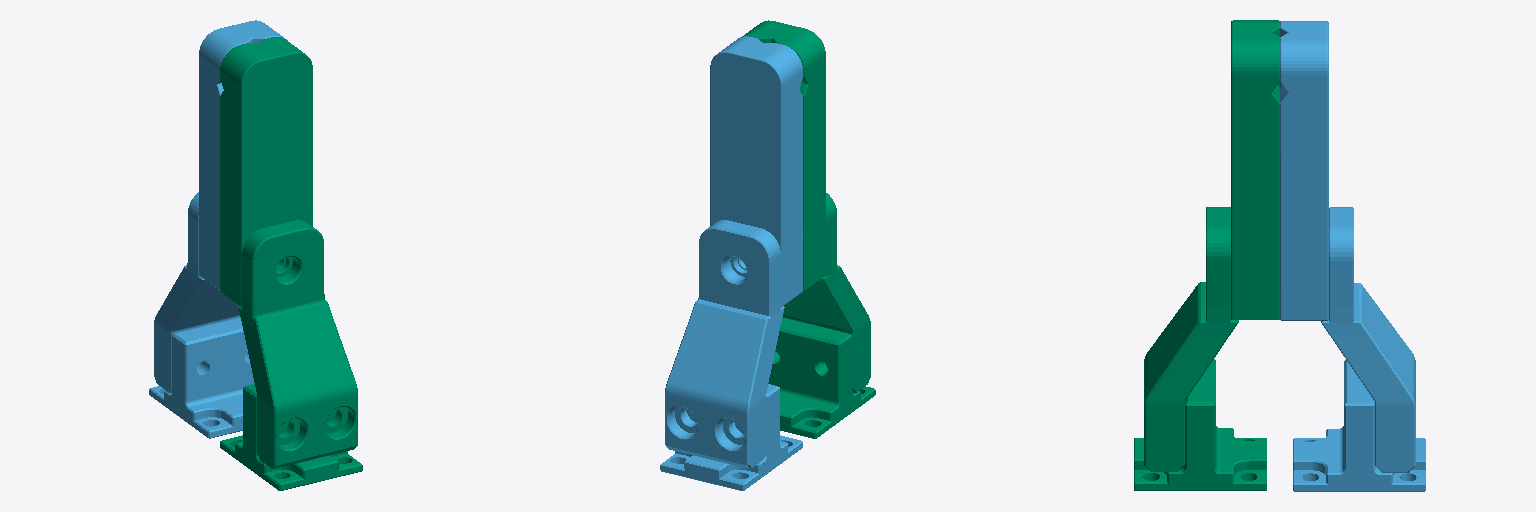
robot.urdf — hand:
<?xml version="1.0" encoding="utf-8"?>
<!-- =================================================================================== -->
<!-- |    This document was autogenerated by xacro from hand.urdf.xacro                | -->
<!-- |    EDITING THIS FILE BY HAND IS NOT RECOMMENDED                                 | -->
<!-- =================================================================================== -->
<robot name="hand">
  <link name="panda_hand">
    <visual>
      <geometry>
        <mesh filename="meshes/visual/hand.dae"/>
      </geometry>
    </visual>
    <collision>
      <origin rpy="0 1.57079632679 1.57079632679" xyz="0 0 0.04"/>
      <geometry>
        <cylinder length="0.1" radius="0.07"/>
      </geometry>
    </collision>
    <collision>
      <origin rpy="0 0 0" xyz="0 -0.05 0.04"/>
      <geometry>
        <sphere radius="0.07"/>
      </geometry>
    </collision>
    <collision>
      <origin rpy="0 0 0" xyz="0 0.05 0.04"/>
      <geometry>
        <sphere radius="0.07"/>
      </geometry>
    </collision>
    <collision>
      <origin rpy="0 1.57079632679 1.57079632679" xyz="0 0 0.1"/>
      <geometry>
        <cylinder length="0.1" radius="0.05"/>
      </geometry>
    </collision>
    <collision>
      <origin rpy="0 0 0" xyz="0 -0.05 0.1"/>
      <geometry>
        <sphere radius="0.05"/>
      </geometry>
    </collision>
    <collision>
      <origin rpy="0 0 0" xyz="0 0.05 0.1"/>
      <geometry>
        <sphere radius="0.05"/>
      </geometry>
    </collision>
  </link>
  <link name="panda_leftfinger">
    <visual>
      <geometry>
        <mesh filename="meshes/visual/finger.dae"/>
      </geometry>
    </visual>
  </link>
  <link name="panda_rightfinger">
    <visual>
      <origin rpy="0 0 3.14159265359" xyz="0 0 0"/>
      <geometry>
        <mesh filename="meshes/visual/finger.dae"/>
      </geometry>
    </visual>
  </link>
  <joint name="panda_finger_joint1" type="prismatic">
    <parent link="panda_hand"/>
    <child link="panda_leftfinger"/>
    <origin rpy="0 0 0" xyz="0 0 0.0584"/>
    <axis xyz="0 1 0"/>
    <limit effort="20" lower="0.0" upper="0.04" velocity="0.2"/>
  </joint>
  <joint name="panda_finger_joint2" type="prismatic">
    <parent link="panda_hand"/>
    <child link="panda_rightfinger"/>
    <origin rpy="0 0 0" xyz="0 0 0.0584"/>
    <axis xyz="0 -1 0"/>
    <limit effort="20" lower="0.0" upper="0.04" velocity="0.2"/>
    <mimic joint="panda_finger_joint1"/>
  </joint>
</robot>

--- Facts derived from the render (not from the file) ---
Views: 3 orthographic renders of the robot side by side, from view 1: azimuth 30°, elevation 25°; view 2: azimuth 150°, elevation 25°; view 3: azimuth 270°, elevation 25°.
Model hand with 3 links and 2 joints (2 prismatic), rooted at panda_hand, posed every joint at zero.
Links seen in each view (by area): view 1: panda_rightfinger, panda_leftfinger; view 2: panda_leftfinger, panda_rightfinger; view 3: panda_leftfinger, panda_rightfinger.
Boxes of the visible links, x1,y1,x2,y2 form: panda_rightfinger: [220, 37, 362, 490]; panda_leftfinger: [149, 20, 287, 438]; panda_leftfinger: [660, 36, 802, 490]; panda_rightfinger: [742, 20, 875, 438]; panda_leftfinger: [1280, 21, 1425, 491]; panda_rightfinger: [1134, 20, 1279, 490].
Bounding box of the posed robot: 0.0212 × 0.057 × 0.094 m (x, y, z).
2 mesh visuals loaded from 2 distinct referenced files (1 Collada DAE); not drawn: 1 (reference not matched to a file when rendering).